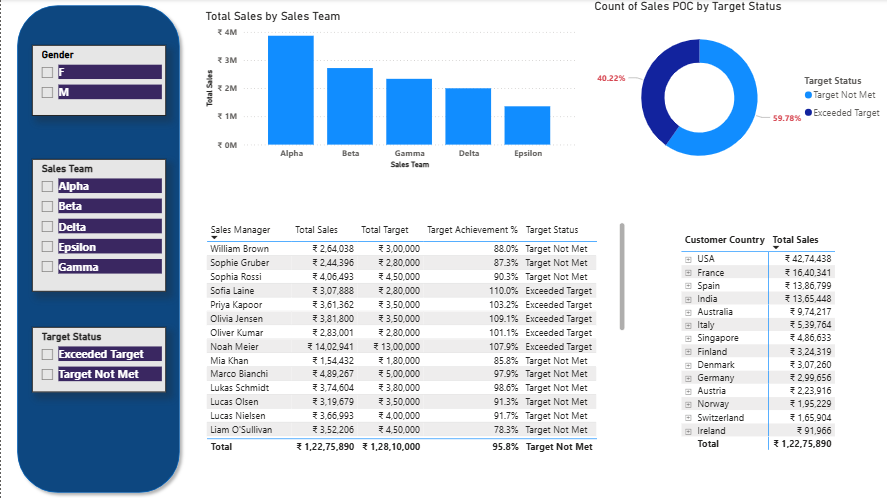

The page's visual inventory and layout, read from the dashboard file:
{"tool":"powerbi","page":{"name":"Sales Team","canvas":[1280,720],"ordinal":1},"visuals":[{"type":"tableEx","fields":{"Values":["Sales Targets.Sales Manager","Measures_List.Total Sales","Measures_List.Total Target","Measures_List.Target Achievement %","Measures_List.Target Status"]},"box":[290.2,317,613.2,340.8],"z":0},{"type":"donutChart","fields":{"Y":["CountNonNull(Sales Targets.Sales POC)"],"Category":["Sales Targets.Target Status"]},"box":[849.9,0,430.1,264.9],"z":1000},{"type":"clusteredColumnChart","fields":{"Y":["Measures_List.Total Sales"],"Category":["Sales Targets.Sales Team"]},"box":[290,14.3,542.9,234.3],"z":2000},{"type":"pivotTable","fields":{"Rows":["Customers.Customer Country","Sales Targets.Sales Manager"],"Values":["Measures_List.Total Sales"]},"box":[974.9,331.9,272.4,342.3],"z":3000},{"type":"shape","box":[14.4,0,252,720],"z":5500},{"type":"slicer","fields":{"Values":["Sales Targets.Sales Team"]},"box":[44.7,230.5,192.7,191],"z":7500},{"type":"slicer","fields":{"Values":["Customers.Gender"]},"box":[44.6,66.2,193,102.2],"z":7750},{"type":"slicer","fields":{"Values":["Sales Targets.Target Status"]},"box":[44.6,472.3,193,93.6],"z":8000}]}

Visuals, with their boxes in screenshot pixels (x1, y1, x2, y2), scaled from the page's 1280x720 canvas onto the 893x498 screenshot:
tableEx - Sales Targets.Sales Manager x Measures_List.Total Sales: x1=202 y1=219 x2=630 y2=455
donutChart - CountNonNull(Sales Targets.Sales POC) x Sales Targets.Target Status: x1=593 y1=0 x2=892 y2=183
clusteredColumnChart - Measures_List.Total Sales x Sales Targets.Sales Team: x1=202 y1=10 x2=581 y2=172
pivotTable - Customers.Customer Country x Sales Targets.Sales Manager: x1=680 y1=230 x2=870 y2=466
shape: x1=10 y1=0 x2=186 y2=497
slicer - Sales Targets.Sales Team: x1=31 y1=159 x2=166 y2=292
slicer - Customers.Gender: x1=31 y1=46 x2=166 y2=116
slicer - Sales Targets.Target Status: x1=31 y1=327 x2=166 y2=391
